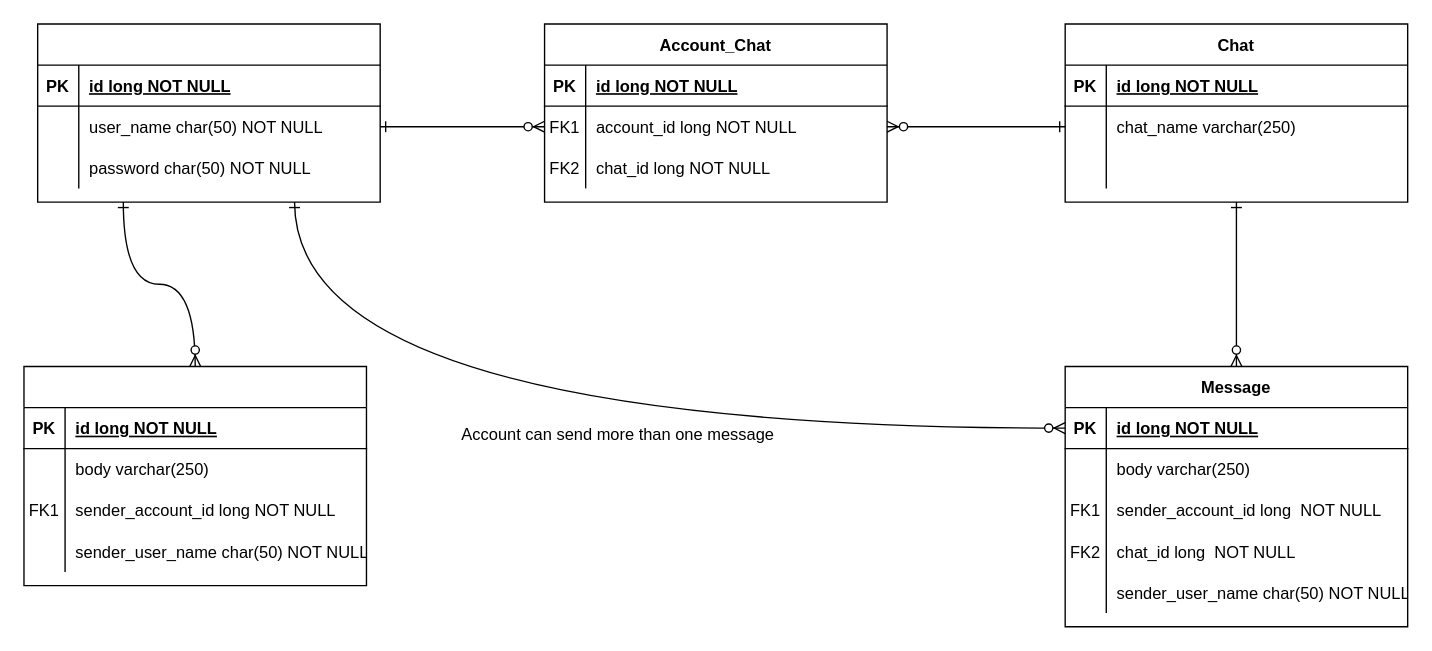
The diagram is 1432 pixels wide and 651 high, and some of its shapes have lost their labels. Here are the shapes that lost their labels. From the top down, the box of each, then its label:
(36, 23, 380, 202): Account
(23, 365, 366, 586): GlobalChatMessages
